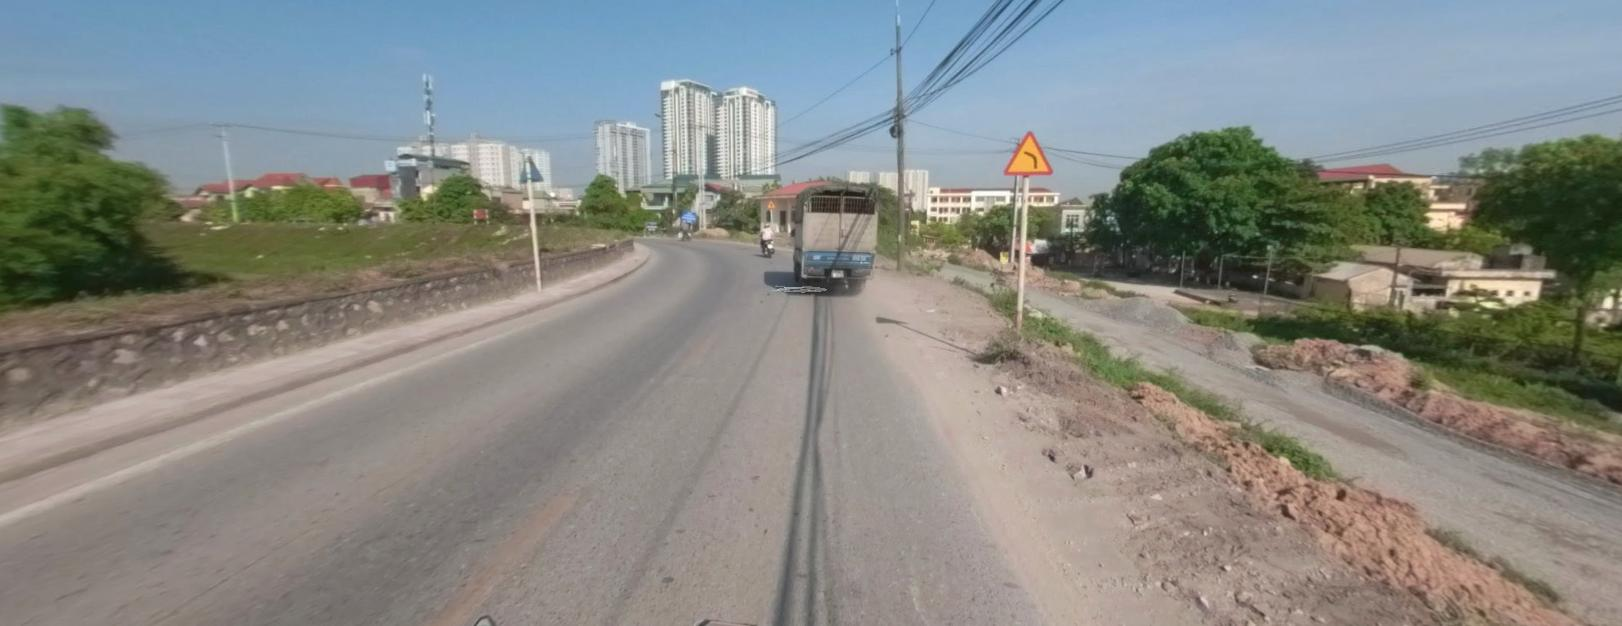Nguy hiem: (996, 124, 1056, 179), (765, 198, 775, 208)
